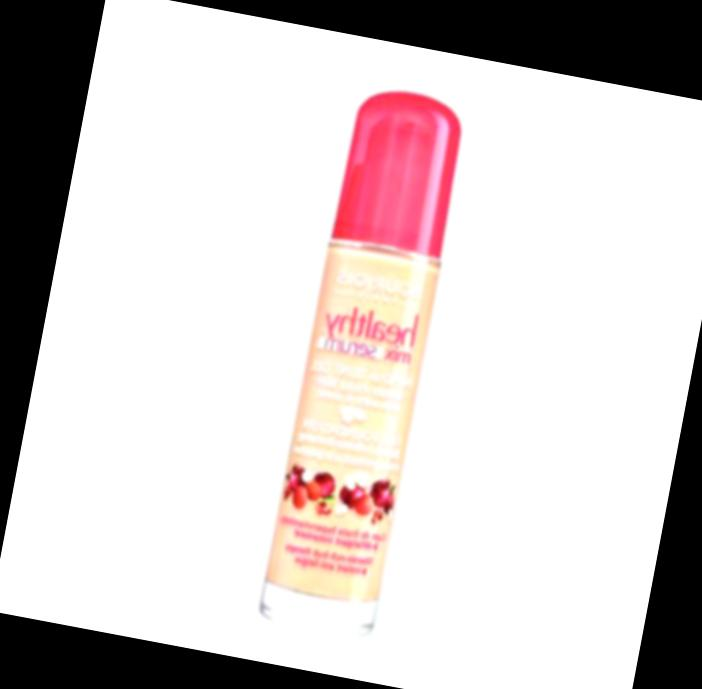cosmetic: (257, 82, 475, 636)
